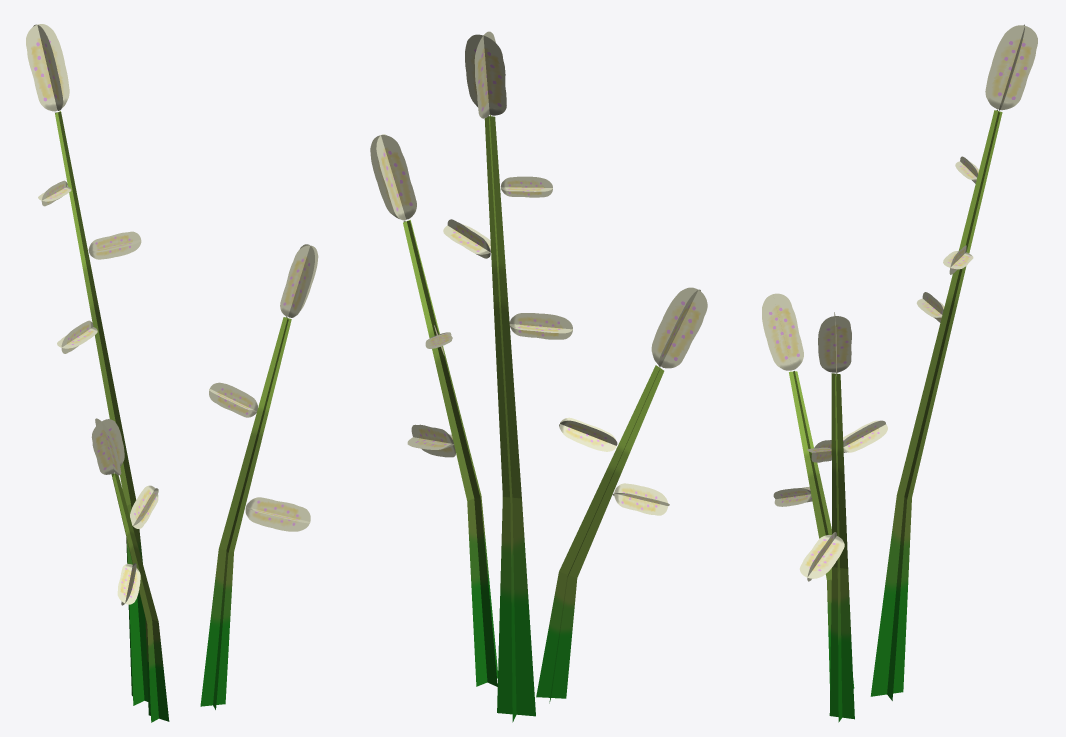
Rendered from Flower_2.fbx.
3 renders of one model, left to right at view 1: azimuth 30°, elevation 25°; view 2: azimuth 150°, elevation 25°; view 3: azimuth 270°, elevation 25°, orthographic. The views are drawn at different scales.
Parts seen in each view (by area): view 1: Flower_2; view 2: Flower_2; view 3: Flower_2.
Boxes of the visible parts, box(x1,y1,x2,y2) form: Flower_2: box(26, 24, 318, 722); Flower_2: box(370, 31, 707, 722); Flower_2: box(762, 24, 1037, 722).
Size of the model in its own units: 0.5906 by 1.31 by 0.5452.
